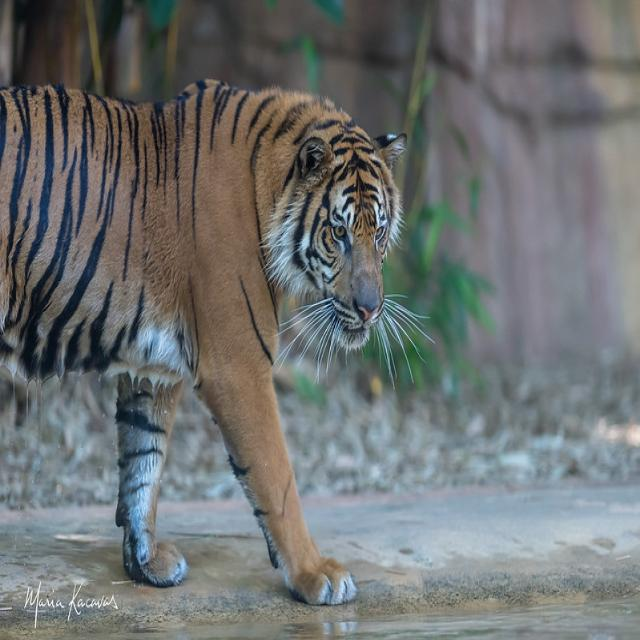Tiger: (0, 74, 408, 604)
